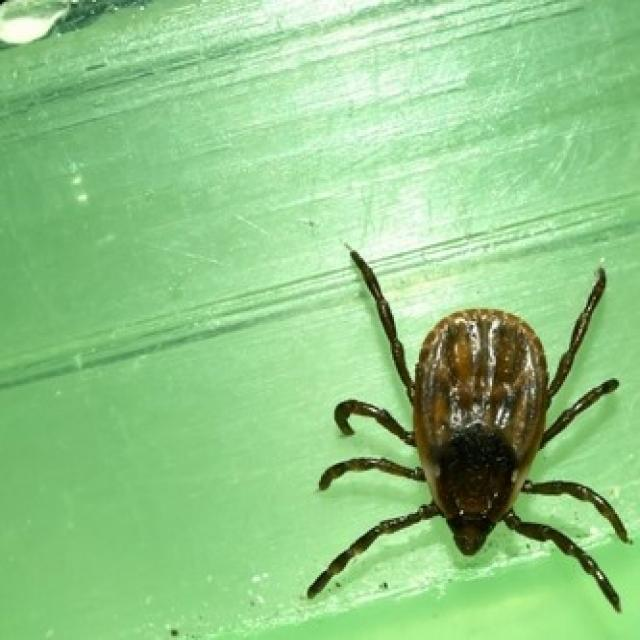Rhipicephalus Sanguineus-F: (308, 250, 630, 612)
